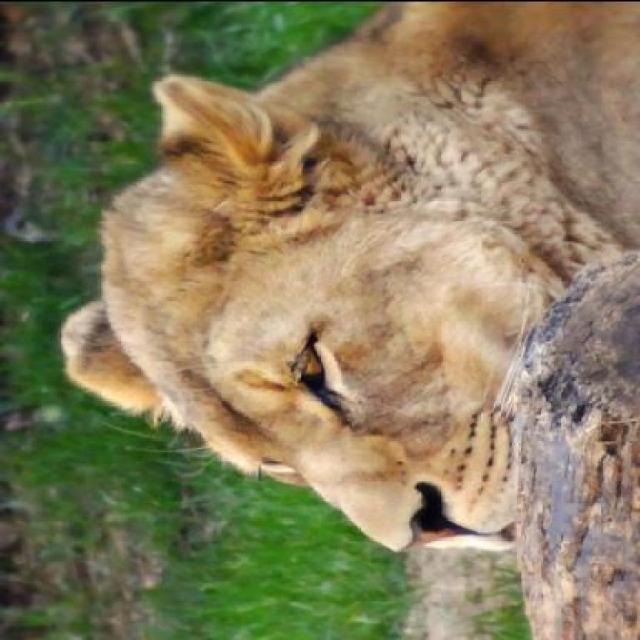Lion: (34, 4, 638, 556)
